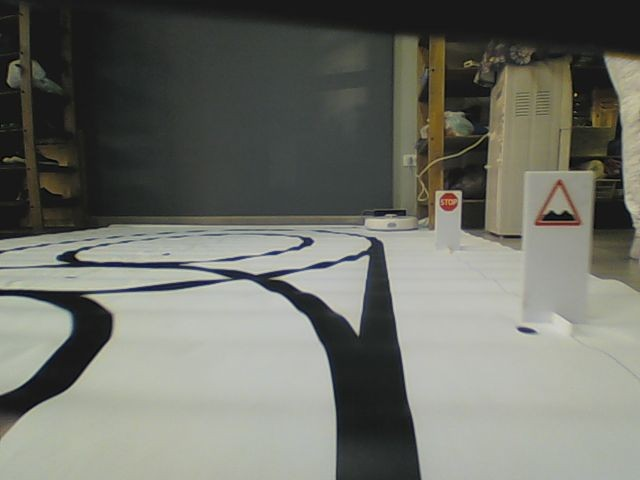Stop: (440, 191, 458, 211)
